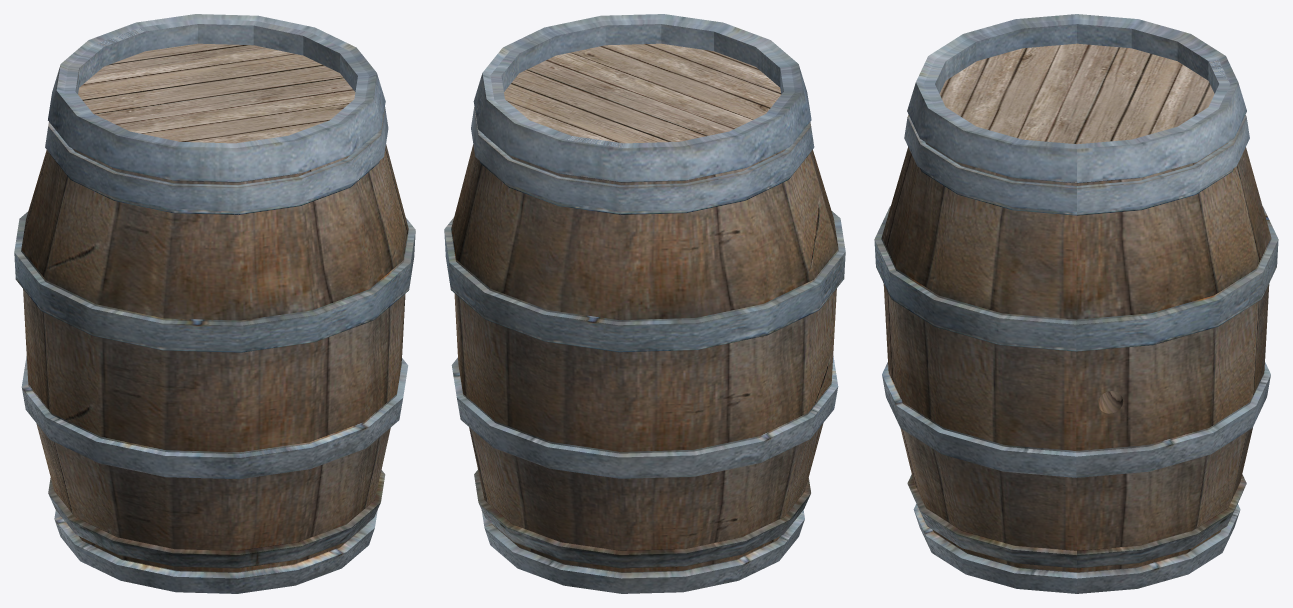
Rendered from barrels-05.FBX.
The picture shows the model from 3 angles, left to right: view 1: azimuth 30°, elevation 25°; view 2: azimuth 150°, elevation 25°; view 3: azimuth 270°, elevation 25°; orthographic projection.
Parts seen in each view (by area): view 1: Line001; view 2: Line001; view 3: Line001.
Part boxes in pixels (x1,y1,x2,y2): Line001: [14, 14, 415, 593]; Line001: [444, 14, 845, 593]; Line001: [874, 14, 1278, 593].
Size of the model in its own units: 24.7 by 30.03 by 24.7.
1 material, 1 textured.
